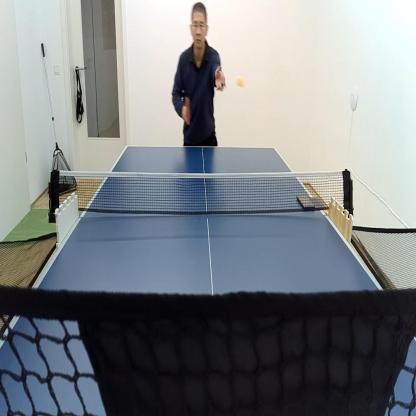Ball: (236, 76, 244, 90)
